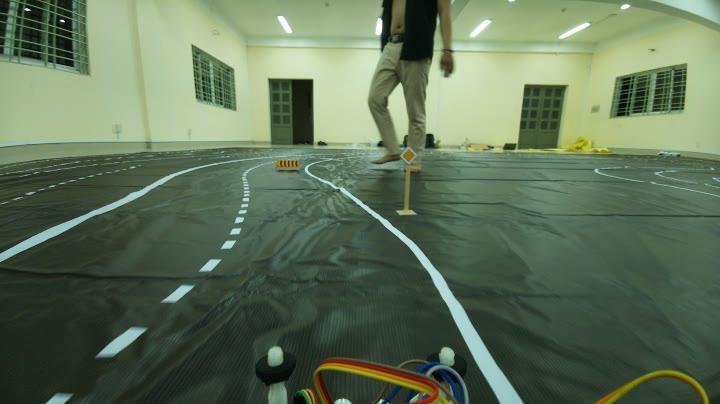priority: (399, 147, 417, 168)
